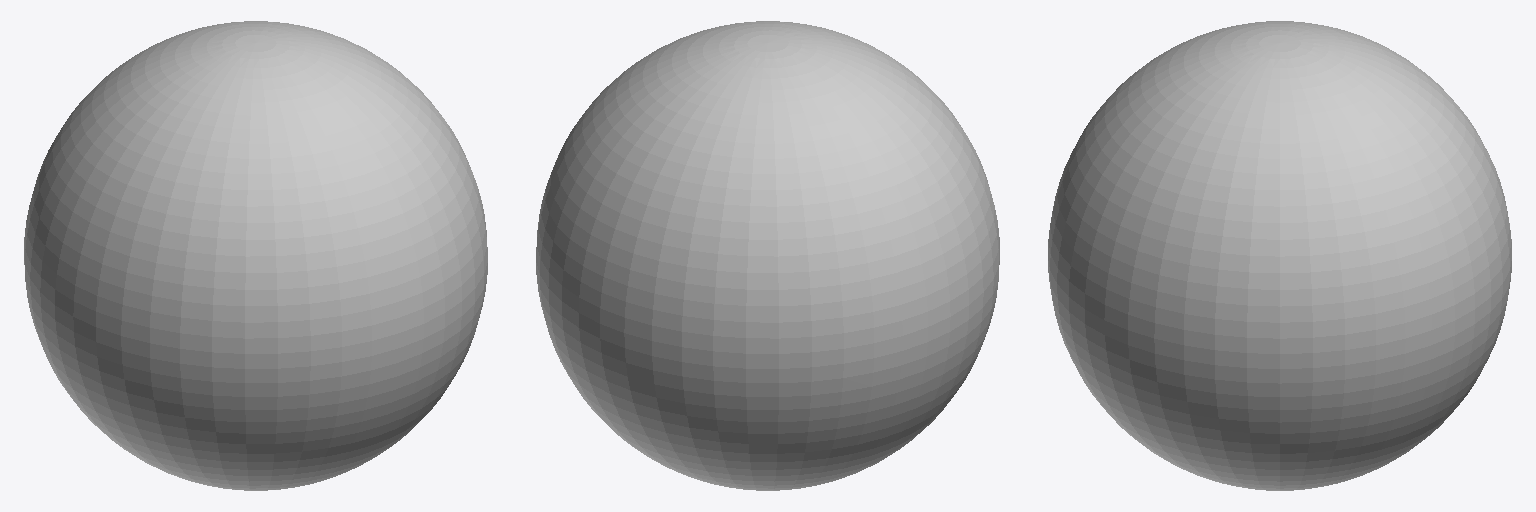
The model's file is Sun.obj.
The picture shows the model from 3 angles: view 1: azimuth 30°, elevation 25°; view 2: azimuth 150°, elevation 25°; view 3: azimuth 270°, elevation 25°; orthographic projection.
Visible parts, largest first — view 1: Mesh; view 2: Mesh; view 3: Mesh.
Boxes of the visible parts, box(x1,y1,x2,y2) form: Mesh: box(24, 21, 487, 490); Mesh: box(536, 21, 999, 490); Mesh: box(1048, 21, 1511, 490).
Bounding box in the file's own units: 4.92 × 4.97 × 4.92.